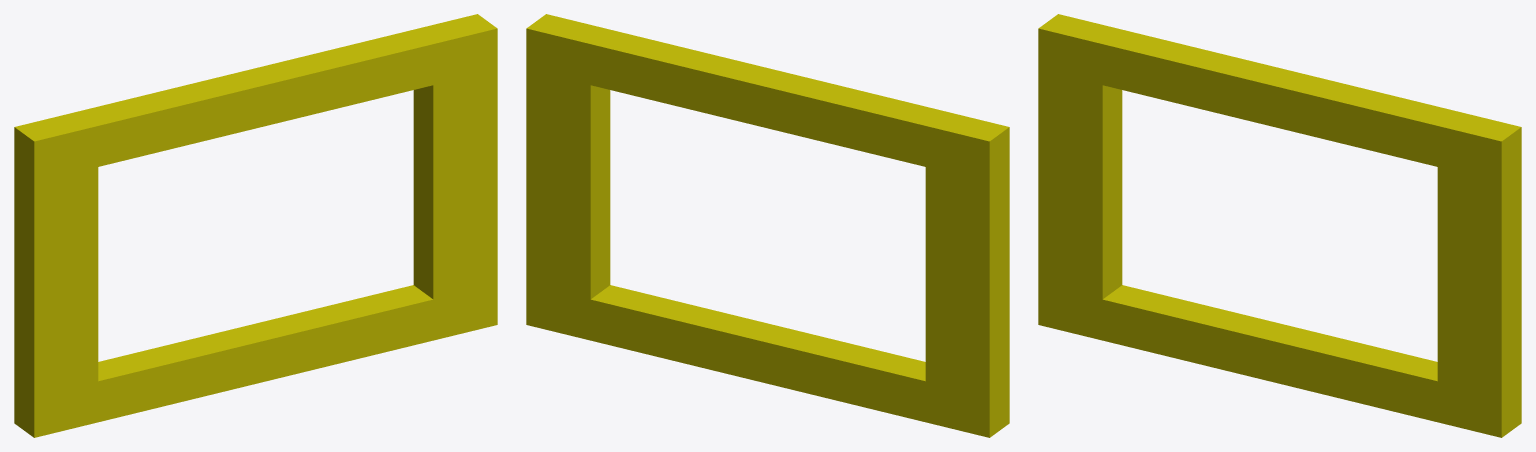
The model's file is Exit4.OBJ.
3 renders of one model, left to right at view 1: azimuth 30°, elevation 25°; view 2: azimuth 150°, elevation 25°; view 3: azimuth 330°, elevation 25°, orthographic.
Visible parts, largest first — view 1: Exit4_Cube.015; view 2: Exit4_Cube.015; view 3: Exit4_Cube.015.
Boxes of the visible parts, box(x1,y1,x2,y2) form: Exit4_Cube.015: box(14, 14, 497, 437); Exit4_Cube.015: box(526, 14, 1009, 437); Exit4_Cube.015: box(1038, 14, 1521, 437).
Bounding box in the file's own units: 0.0608 × 0.0371 × 0.0045.
1 material, 1 textured.
